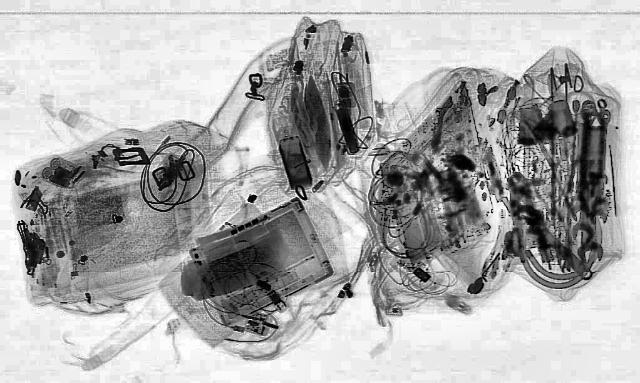Wrench: (574, 210, 606, 260), (568, 198, 596, 240)
